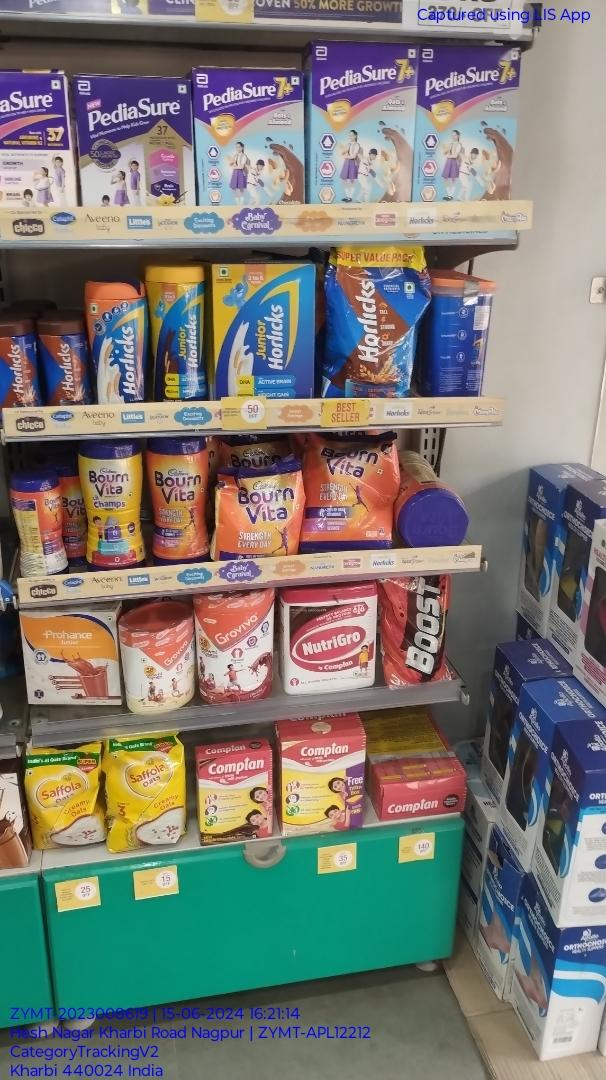BOURN_VITA_500_G_JAR: (147, 441, 210, 565)
BOURN_VITA_500_G_POUCH: (217, 471, 299, 561)
BOURN_VITA_750_G_POUCH: (304, 429, 393, 549)
BOURN_VITA_CHAMPS_500_G_JAR: (82, 444, 144, 568)
COMPLAN_CHOCOLATE_500_GMS_PACK: (198, 753, 273, 845)
COMPLAN_KESAR_BADAM_500_GMS_PACK: (282, 739, 364, 832)
HORLICK_CHOCOLATE_200_G_JAR: (39, 321, 90, 405), (1, 324, 35, 411)
HORLICK_CHOCOLATE_750_G_POUCH: (326, 249, 419, 399)
HORLICK_CLASSIC_MALT_500_G_JAR: (94, 279, 142, 401)
